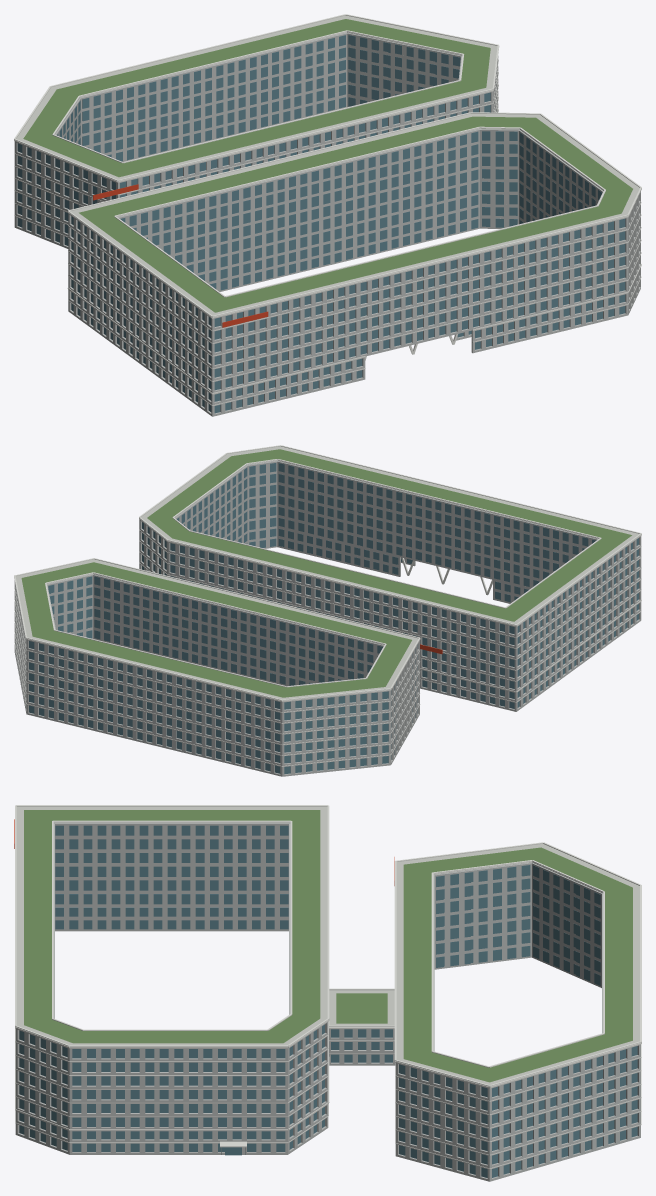
The model's file is energy.far.glb.
3 renders of one model, top to bottom at view 1: azimuth 30°, elevation 25°; view 2: azimuth 150°, elevation 25°; view 3: azimuth 270°, elevation 25°, orthographic. The views are drawn at different scales.
Visible parts, largest first — view 1: science_wall, glass, plant, white_frame, roof; view 2: science_wall, glass, plant, white_frame, roof; view 3: science_wall, glass, plant, white_frame, roof.
Boxes of the visible parts, x1=… form: science_wall: x1=14, y1=32, x2=640, y2=416; glass: x1=17, y1=35, x2=625, y2=413; plant: x1=23, y1=19, x2=632, y2=312; white_frame: x1=14, y1=14, x2=641, y2=405; roof: x1=16, y1=15, x2=639, y2=315; science_wall: x1=14, y1=461, x2=641, y2=776; glass: x1=29, y1=463, x2=638, y2=774; plant: x1=21, y1=449, x2=631, y2=697; white_frame: x1=14, y1=445, x2=641, y2=766; roof: x1=15, y1=446, x2=638, y2=699; science_wall: x1=15, y1=823, x2=640, y2=1181; glass: x1=19, y1=825, x2=637, y2=1177; plant: x1=24, y1=810, x2=632, y2=1082; white_frame: x1=15, y1=805, x2=641, y2=1168; roof: x1=16, y1=806, x2=639, y2=1084.
Size of the model in its own units: 189 by 36.11 by 187.
